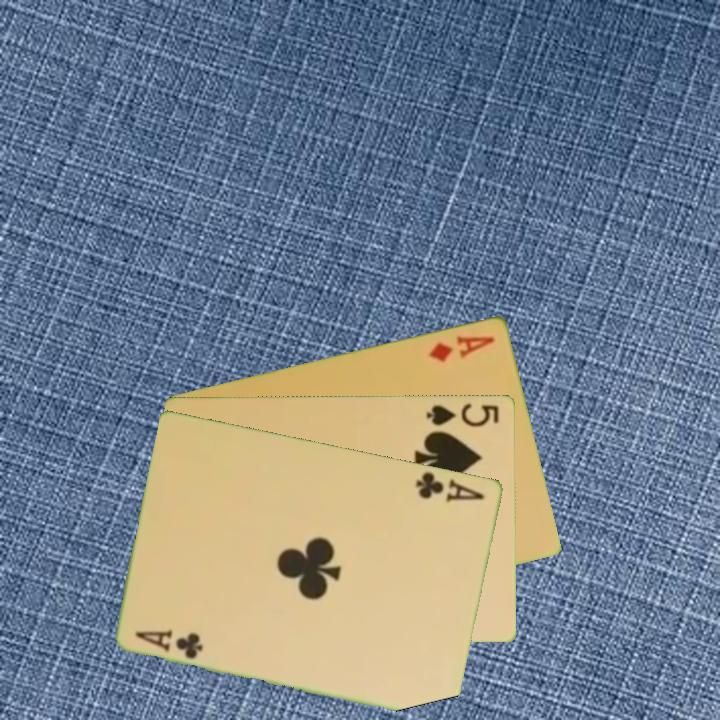5s: (423, 400, 502, 430)
Ac: (412, 468, 488, 504), (131, 626, 207, 662)
Ad: (425, 331, 498, 365)
